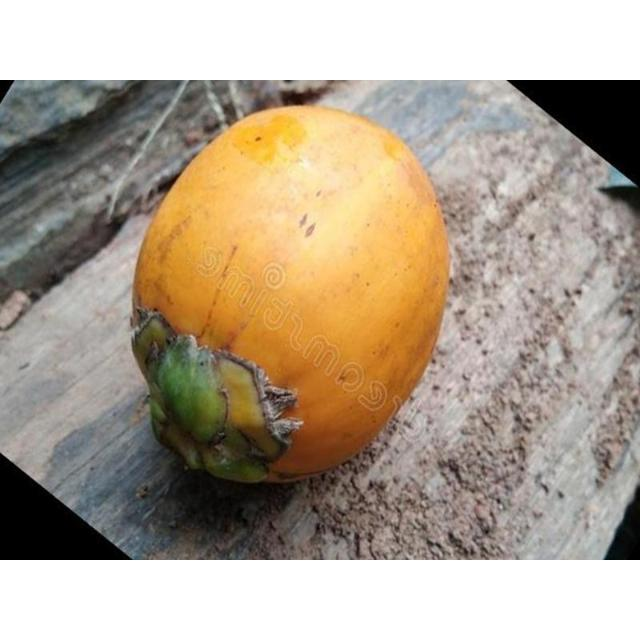good: (129, 106, 451, 487)
